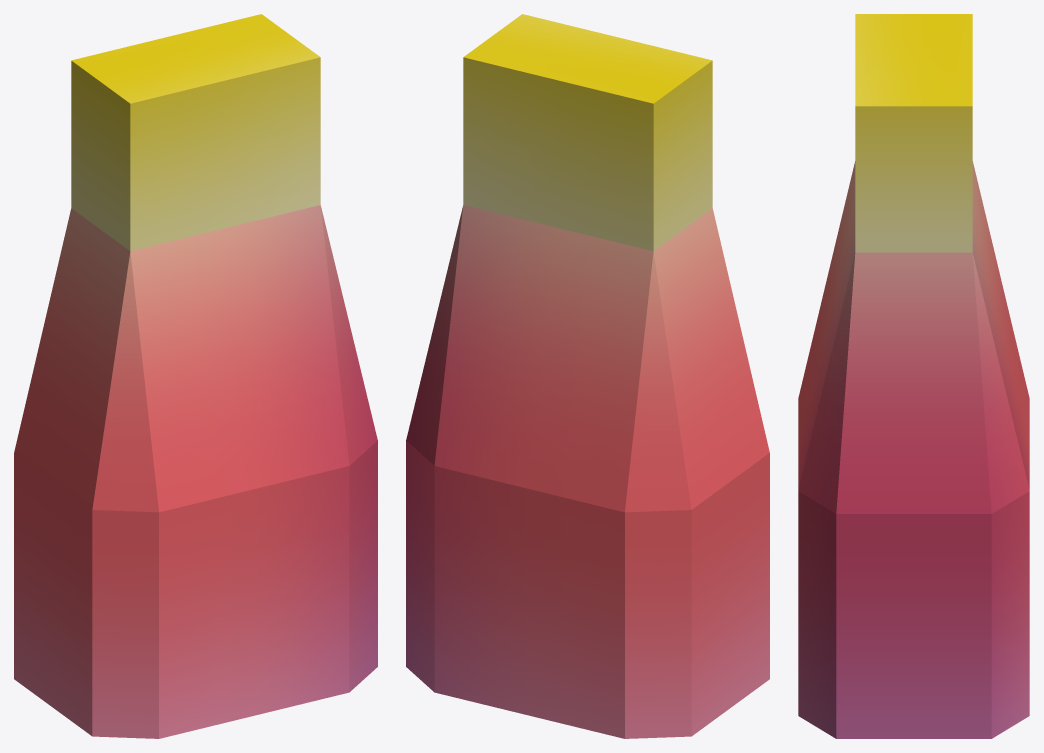
File: giftgoods107d.fbx
3 renders of one model, left to right at view 1: azimuth 30°, elevation 25°; view 2: azimuth 150°, elevation 25°; view 3: azimuth 270°, elevation 25°, orthographic.
Parts seen in each view (by area): view 1: giftgoods107d; view 2: giftgoods107d; view 3: giftgoods107d.
Part boxes in pixels (x1,y1,x2,y2): giftgoods107d: (14,14,377,738); giftgoods107d: (406,14,769,738); giftgoods107d: (798,14,1029,738).
Size of the model in its own units: 0.0443 by 0.0911 by 0.0313.
